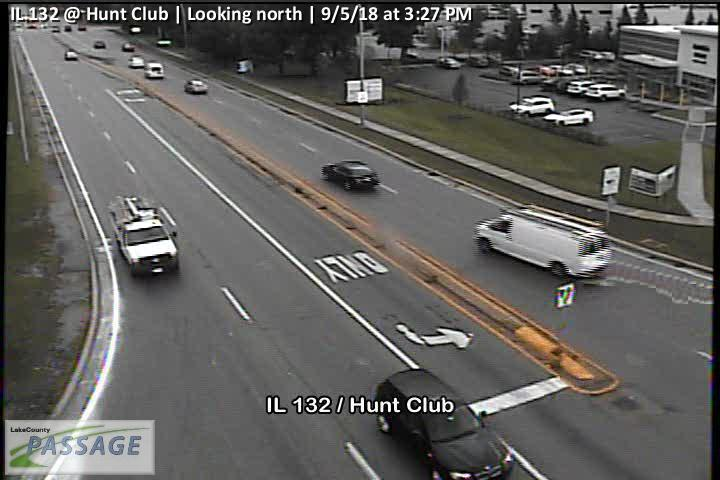SUV: (373, 368, 514, 480), (473, 208, 613, 280), (322, 159, 378, 191), (509, 96, 555, 117), (583, 81, 627, 101), (512, 69, 547, 86), (565, 79, 598, 97), (121, 41, 136, 53), (64, 50, 77, 60)
Sedan: (542, 108, 595, 126), (182, 78, 207, 94), (438, 55, 462, 70), (144, 62, 163, 78), (127, 54, 144, 67)
Truck: (109, 195, 179, 277)
